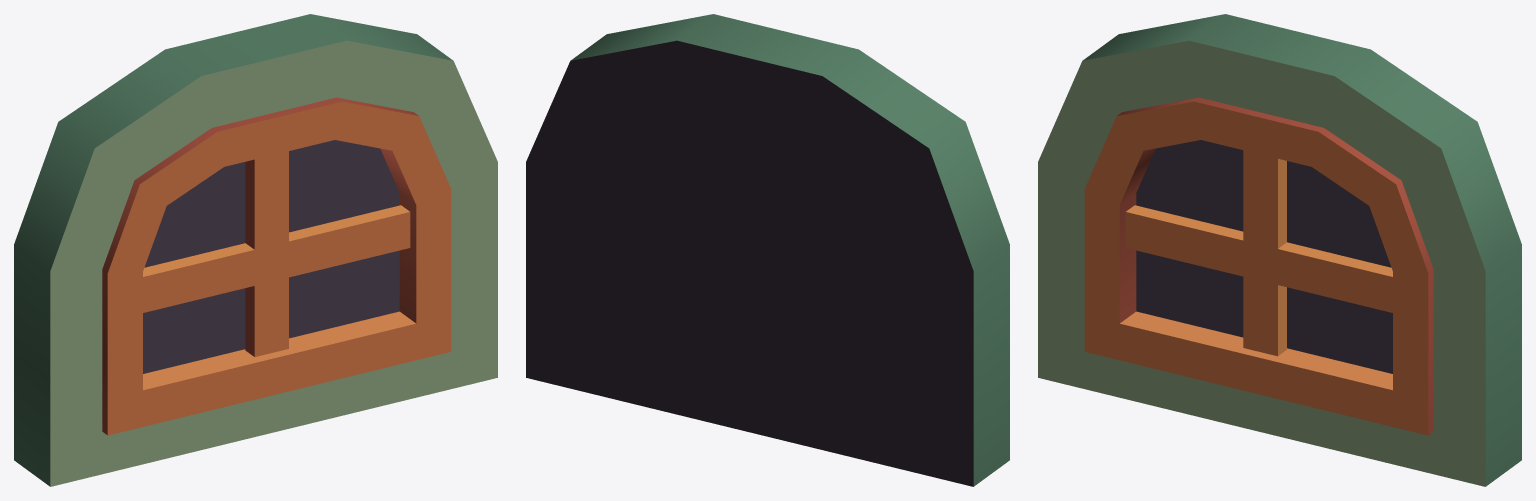
File: Window01_Green_Wood.glb
3 views of the same model, side by side, from view 1: azimuth 30°, elevation 25°; view 2: azimuth 150°, elevation 25°; view 3: azimuth 330°, elevation 25° (orthographic).
Visible parts, largest first — view 1: Window01_Green_Wood; view 2: Window01_Green_Wood; view 3: Window01_Green_Wood.
Part boxes in pixels (x1,y1,x2,y2): Window01_Green_Wood: (14, 14, 497, 486); Window01_Green_Wood: (526, 14, 1009, 486); Window01_Green_Wood: (1038, 14, 1521, 486).
Bounding box in the file's own units: 0.8998 × 0.7186 × 0.1456.
1 material, 1 textured.
